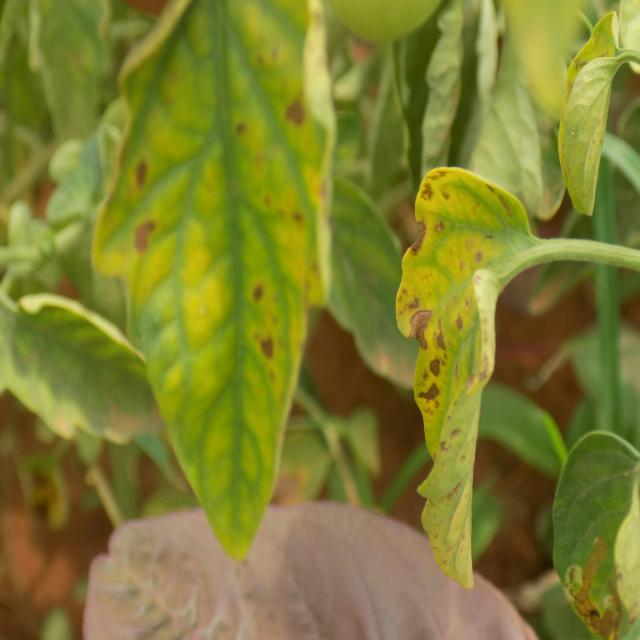tomato_early blight: (92, 0, 324, 567), (396, 161, 538, 593)
